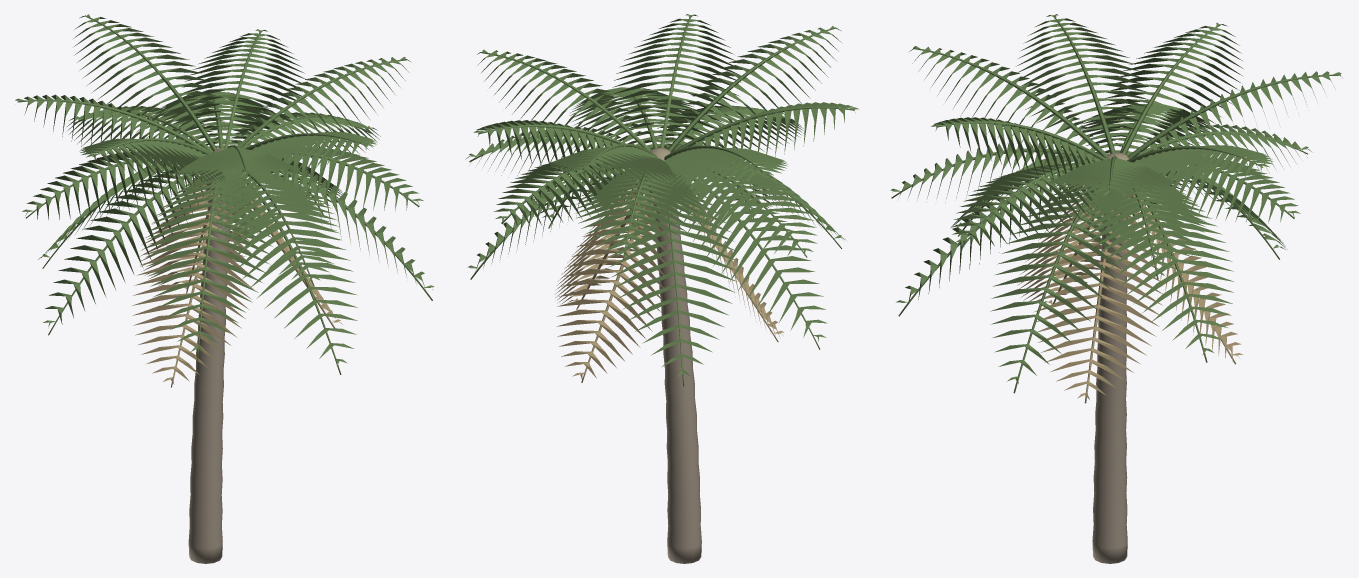
File: palm.glb
3 renders of one model, left to right at view 1: azimuth 30°, elevation 25°; view 2: azimuth 150°, elevation 25°; view 3: azimuth 270°, elevation 25°, orthographic. The views are drawn at different scales.
Visible parts, largest first — view 1: Fronds, Trunk, DeadFronds; view 2: Fronds, Trunk, DeadFronds; view 3: Fronds, DeadFronds, Trunk.
Part boxes in pixels (left/top/right/bottom): Fronds: left=15, top=14, right=434, bottom=374; Trunk: left=188, top=196, right=231, bottom=563; DeadFronds: left=132, top=184, right=342, bottom=387; Fronds: left=465, top=14, right=858, bottom=386; Trunk: left=652, top=201, right=701, bottom=563; DeadFronds: left=555, top=185, right=783, bottom=382; Fronds: left=890, top=14, right=1342, bottom=393; DeadFronds: left=1017, top=191, right=1243, bottom=403; Trunk: left=1092, top=210, right=1127, bottom=563.
Size of the model in its own units: 6.01 by 7.49 by 6.42.
